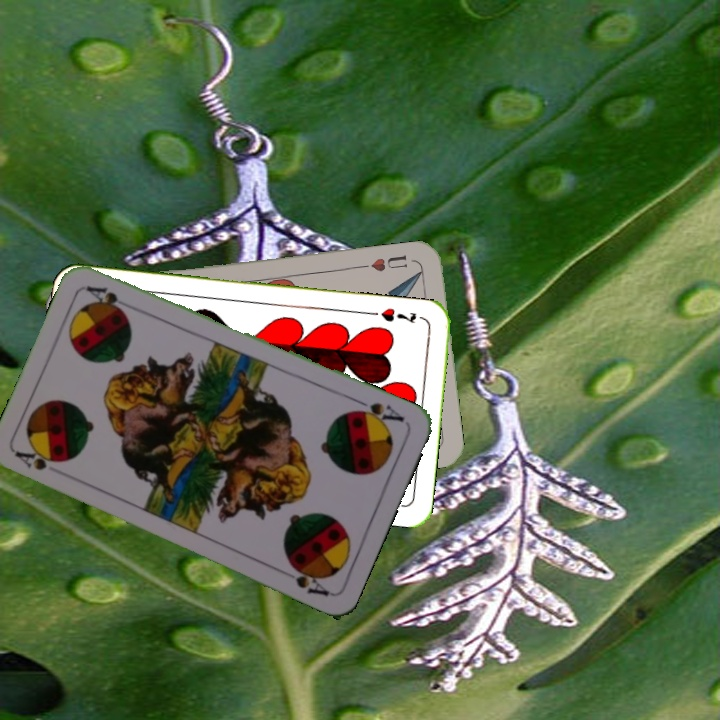H7: (377, 303, 419, 326)
HU: (367, 251, 410, 274)
SA: (348, 395, 407, 429), (11, 447, 60, 473)
